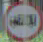Heavy Vehicles: (5, 3, 42, 40)
